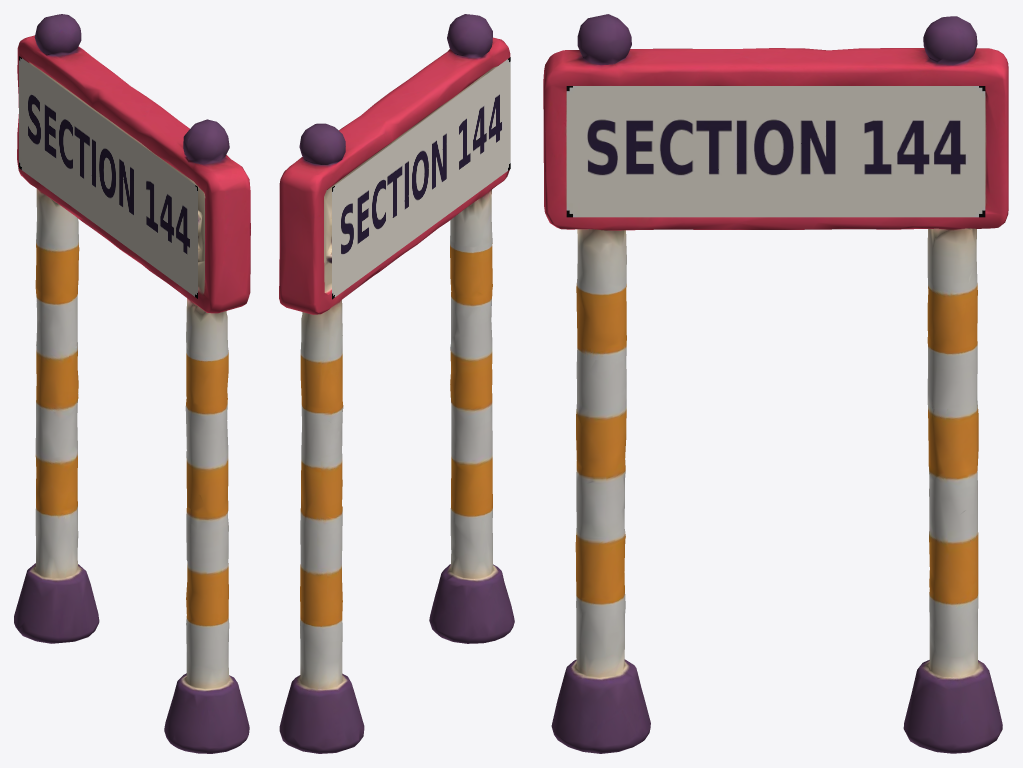
The model's file is obstacle-section-144.glb.
3 renders of one model, left to right at view 1: azimuth 30°, elevation 25°; view 2: azimuth 150°, elevation 25°; view 3: azimuth 270°, elevation 25°, orthographic. The views are drawn at different scales.
Visible parts, largest first — view 1: tripo_node_5c356536-89fa-42c0-99a0-4f117ab6b4a5, SignTextFront; view 2: tripo_node_5c356536-89fa-42c0-99a0-4f117ab6b4a5, SignTextFront; view 3: tripo_node_5c356536-89fa-42c0-99a0-4f117ab6b4a5, SignTextFront.
Part boxes in pixels (box(x1,y1,x2,y2)): tripo_node_5c356536-89fa-42c0-99a0-4f117ab6b4a5: box(14, 14, 250, 753); SignTextFront: box(19, 56, 197, 298); tripo_node_5c356536-89fa-42c0-99a0-4f117ab6b4a5: box(279, 14, 514, 753); SignTextFront: box(332, 57, 510, 299); tripo_node_5c356536-89fa-42c0-99a0-4f117ab6b4a5: box(543, 14, 1008, 753); SignTextFront: box(566, 86, 985, 217).
Size of the model in its own units: 0.1273 by 1 by 0.5849.
Materials: 2 (2 with a texture image).
